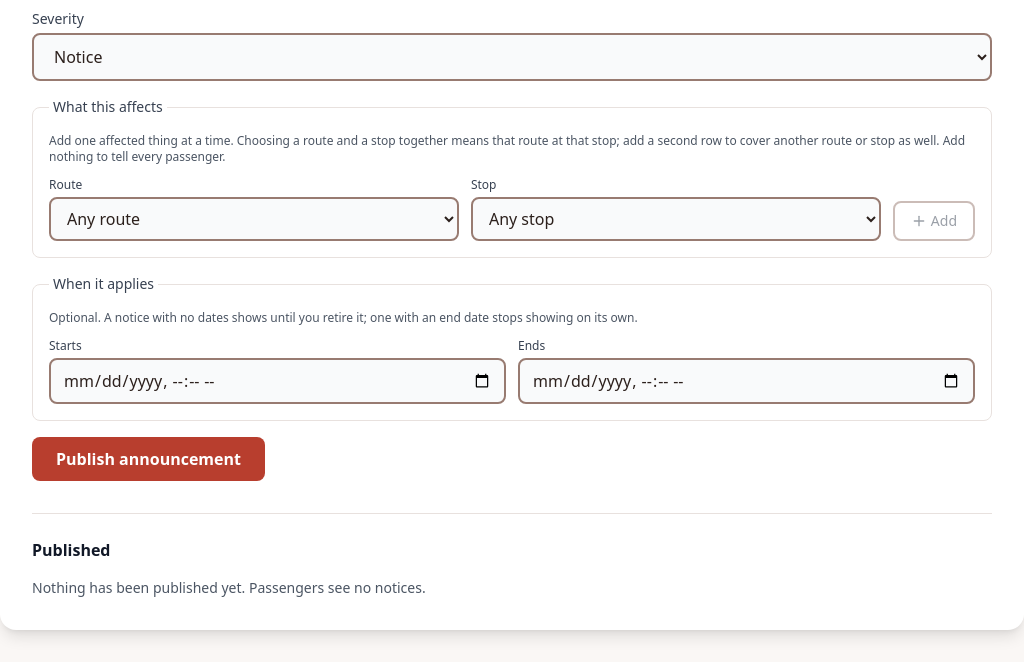
Test: publishing a notice › refuses to publish an empty notice
(page scrolled)
Click the button "Publish announcement" at (148, 459), box [32, 437, 265, 481]
(page scrolled)
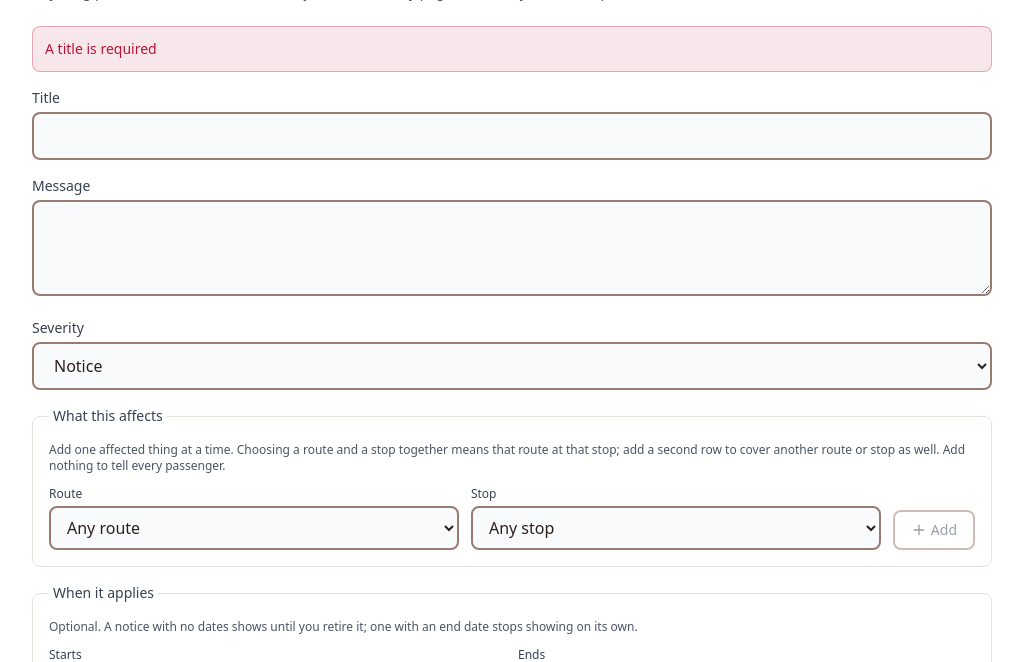
Expected: the text "A title is required" is shown, [45, 39, 157, 58]
